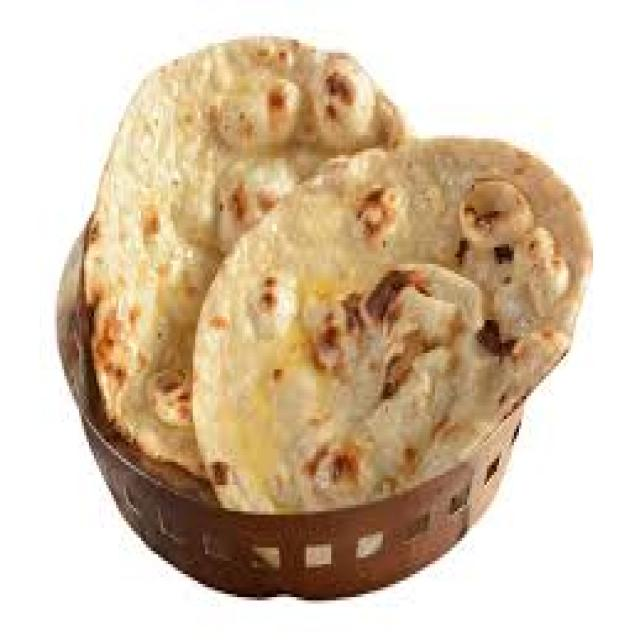ROTI: (207, 143, 592, 518), (82, 39, 411, 465)
